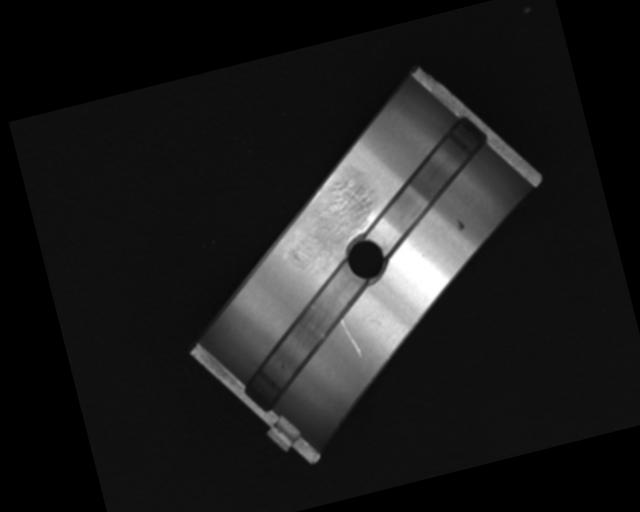bruise: (454, 217, 466, 232)
gap: (224, 263, 393, 406), (347, 116, 508, 253)
hole: (341, 233, 392, 285)
nick: (340, 316, 361, 360)
scratch: (270, 173, 388, 281)
